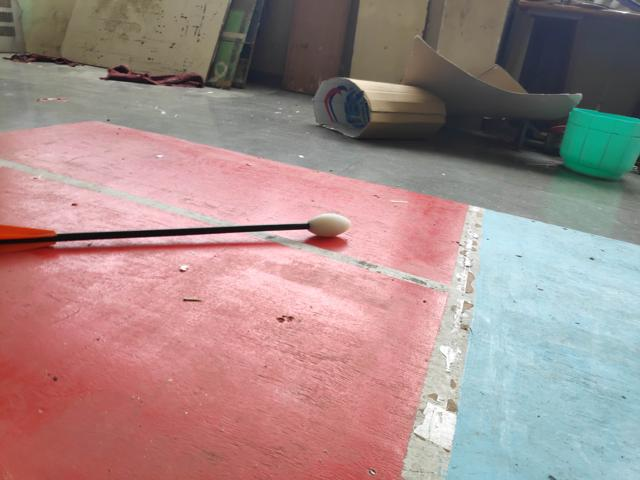Head: (308, 213, 353, 238)
